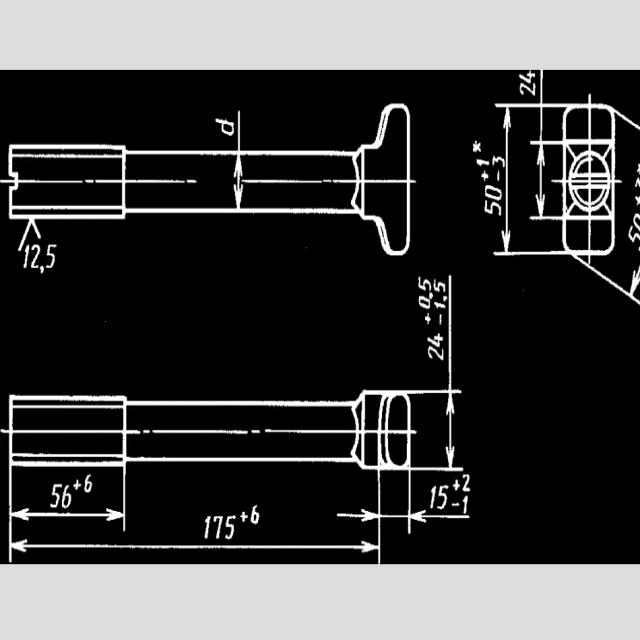marking_line: (6, 467, 391, 564), (494, 102, 561, 257), (334, 473, 474, 539), (7, 469, 128, 529), (413, 389, 465, 473), (524, 135, 562, 224), (229, 156, 246, 207)
numeric: (435, 483, 450, 511), (485, 183, 503, 204), (483, 198, 502, 216), (224, 515, 237, 540), (428, 344, 446, 362), (50, 482, 62, 509), (29, 244, 41, 270), (213, 514, 224, 540), (61, 482, 72, 508), (47, 243, 57, 271), (418, 277, 434, 294), (427, 483, 437, 510), (251, 499, 261, 525), (519, 84, 537, 97), (462, 472, 472, 494), (417, 295, 431, 310), (428, 334, 444, 347), (519, 71, 536, 83), (202, 515, 210, 540), (433, 279, 446, 294), (492, 153, 505, 168), (23, 243, 30, 270), (84, 473, 93, 493), (461, 493, 469, 513), (477, 157, 488, 168), (435, 301, 446, 310)
